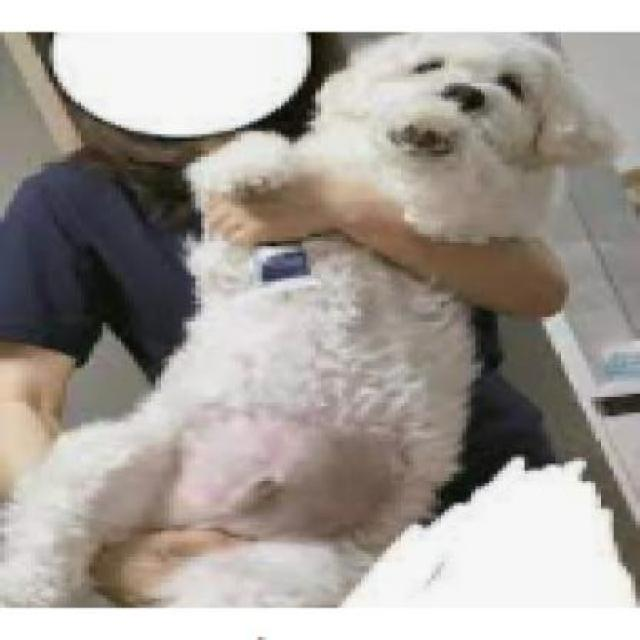Dog: (3, 34, 620, 608)
